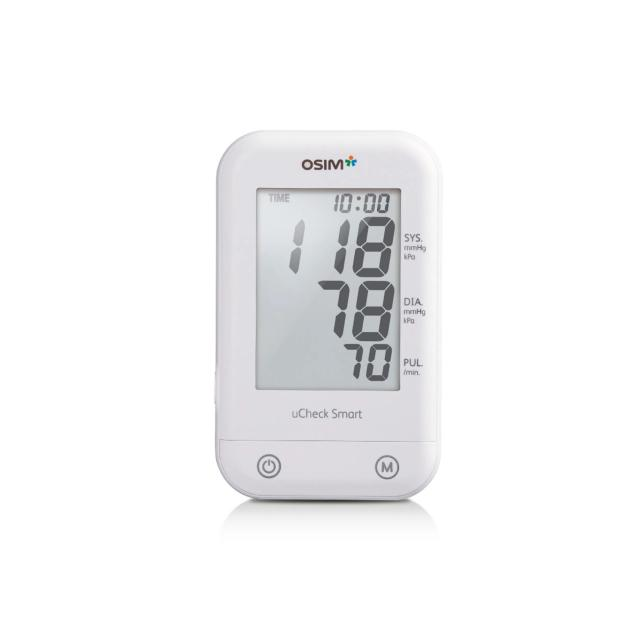dia: (310, 272, 398, 344)
pul: (335, 337, 399, 387)
ssd: (255, 189, 401, 391)
sys: (280, 211, 398, 275)
